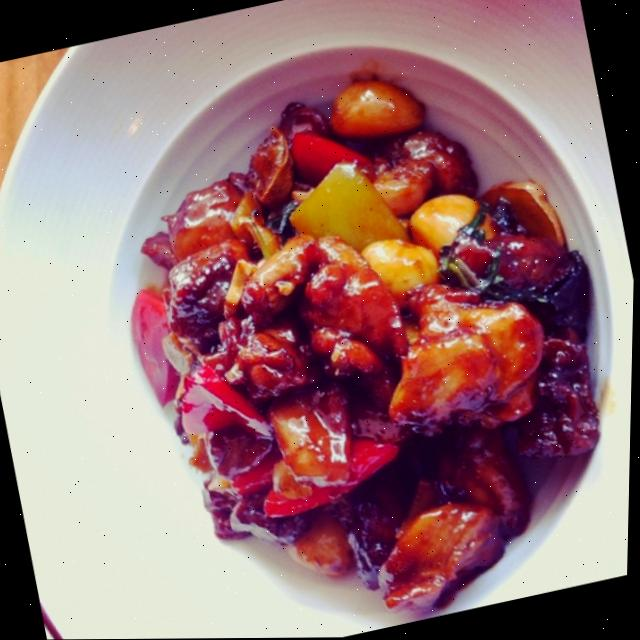鸡肉料理 含炸鸡: (35, 1, 640, 640)
